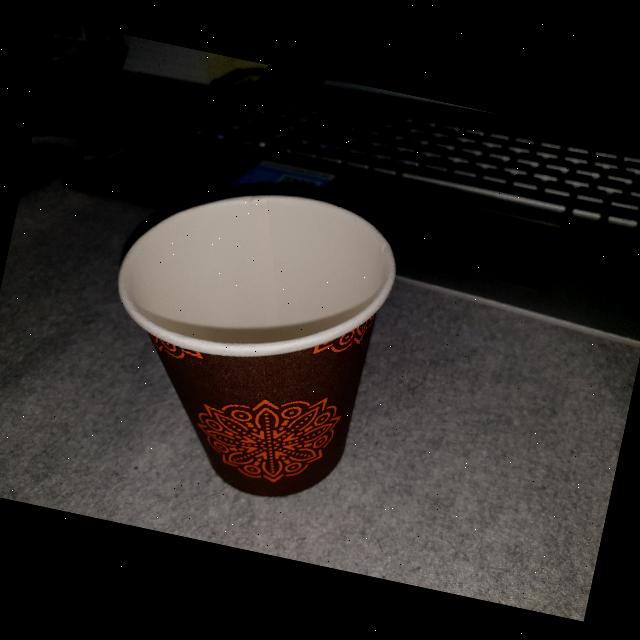trash: (72, 151, 424, 524)
